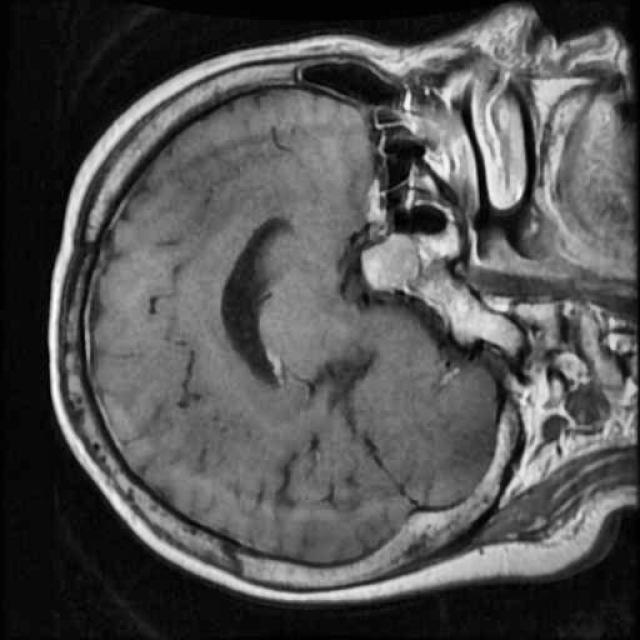Tumor: (354, 221, 430, 302)
